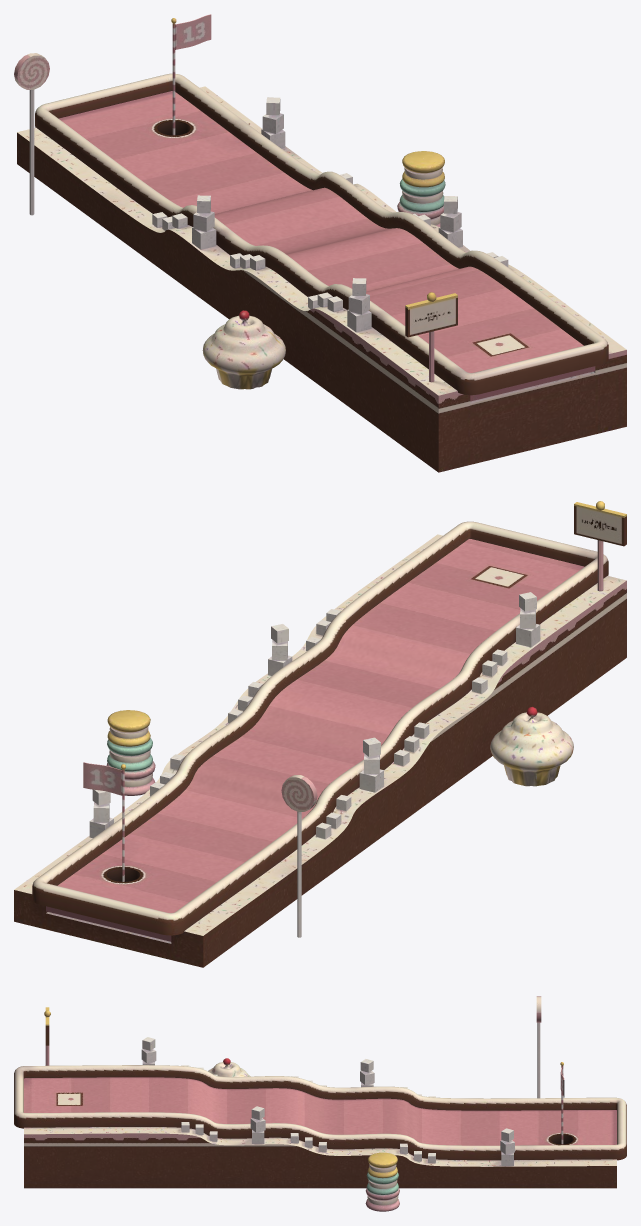
The model's file is hole13.glb.
3 views of the same model, one above another, from view 1: azimuth 30°, elevation 25°; view 2: azimuth 150°, elevation 25°; view 3: azimuth 270°, elevation 25° (orthographic). The views are drawn at different scales.
Visible parts, largest first — view 1: Base, Green, Rails, SugarCubes, Decor1, Decor2, HoleSign, Decor3, Flag; view 2: Green, Base, Rails, SugarCubes, Decor1, Decor2, HoleSign, Decor3, Flag; view 3: Base, Green, Rails, SugarCubes, Decor2, Decor1, Decor3.
Part boxes in pixels (x1=…): Base: x1=17, y1=86, x2=626, y2=472; Green: x1=59, y1=91, x2=595, y2=401; Rails: x1=35, y1=73, x2=608, y2=395; SugarCubes: x1=152, y1=97, x2=508, y2=332; Decor1: x1=202, y1=310, x2=285, y2=389; Decor2: x1=397, y1=151, x2=445, y2=227; HoleSign: x1=405, y1=292, x2=457, y2=382; Decor3: x1=14, y1=53, x2=49, y2=215; Flag: x1=171, y1=14, x2=211, y2=135; Green: x1=46, y1=539, x2=584, y2=941; Base: x1=14, y1=534, x2=626, y2=967; Rails: x1=32, y1=521, x2=608, y2=935; SugarCubes: x1=89, y1=592, x2=540, y2=839; Decor1: x1=490, y1=706, x2=573, y2=786; Decor2: x1=106, y1=710, x2=155, y2=795; HoleSign: x1=574, y1=501, x2=626, y2=591; Decor3: x1=281, y1=775, x2=317, y2=937; Flag: x1=83, y1=762, x2=125, y2=881; Base: x1=24, y1=1127, x2=616, y2=1188; Green: x1=24, y1=1077, x2=616, y2=1145; Rails: x1=14, y1=1065, x2=626, y2=1160; SugarCubes: x1=141, y1=1037, x2=514, y2=1165; Decor2: x1=365, y1=1152, x2=399, y2=1211; Decor1: x1=208, y1=1058, x2=250, y2=1076; Decor3: x1=536, y1=996, x2=541, y2=1098.
Size of what is drawn, in the model's own units: 3.59 by 1.65 by 7.86.
1 material, 1 textured.
